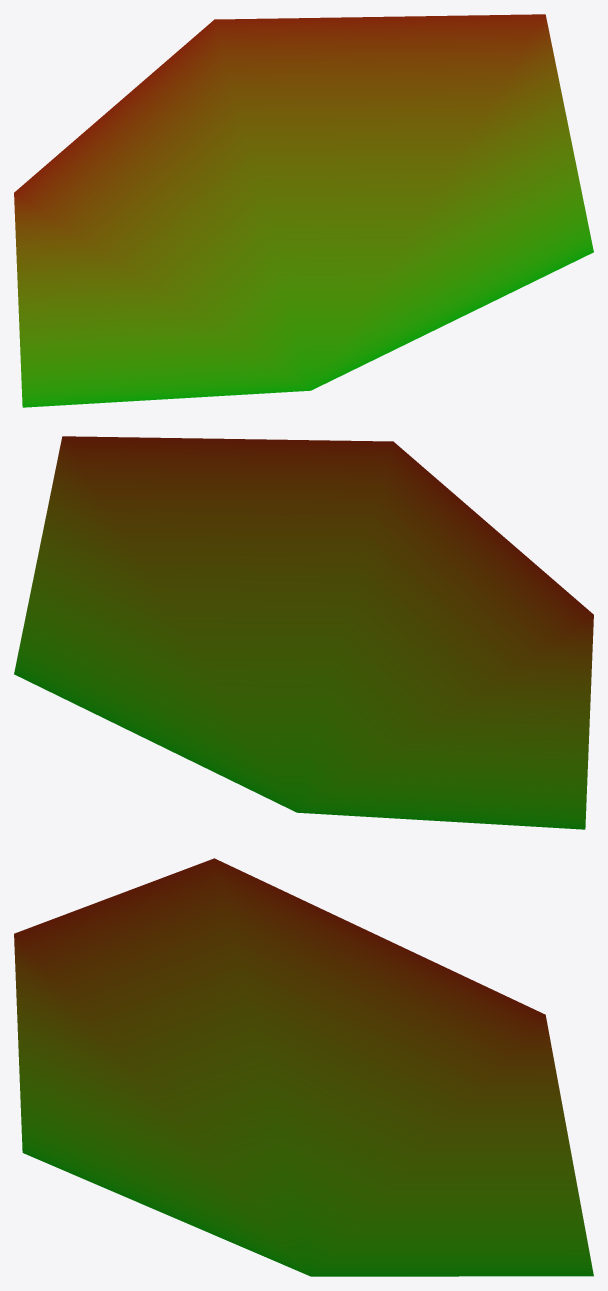
Rendered from Aloe Vera_LOD4_Var4_ve4tbbrha.fbx.
3 views of the same model, one above another, from view 1: azimuth 30°, elevation 25°; view 2: azimuth 150°, elevation 25°; view 3: azimuth 330°, elevation 25° (orthographic).
Visible parts, largest first — view 1: _hndj_Var4_LOD4; view 2: _hndj_Var4_LOD4; view 3: _hndj_Var4_LOD4.
Boxes of the visible parts, left/top/right/bottom form: _hndj_Var4_LOD4: left=14, top=14, right=593, bottom=407; _hndj_Var4_LOD4: left=14, top=436, right=593, bottom=829; _hndj_Var4_LOD4: left=14, top=858, right=593, bottom=1276.
Bounding box in the file's own units: 79.4 × 51.64 × 8.25e-06.
